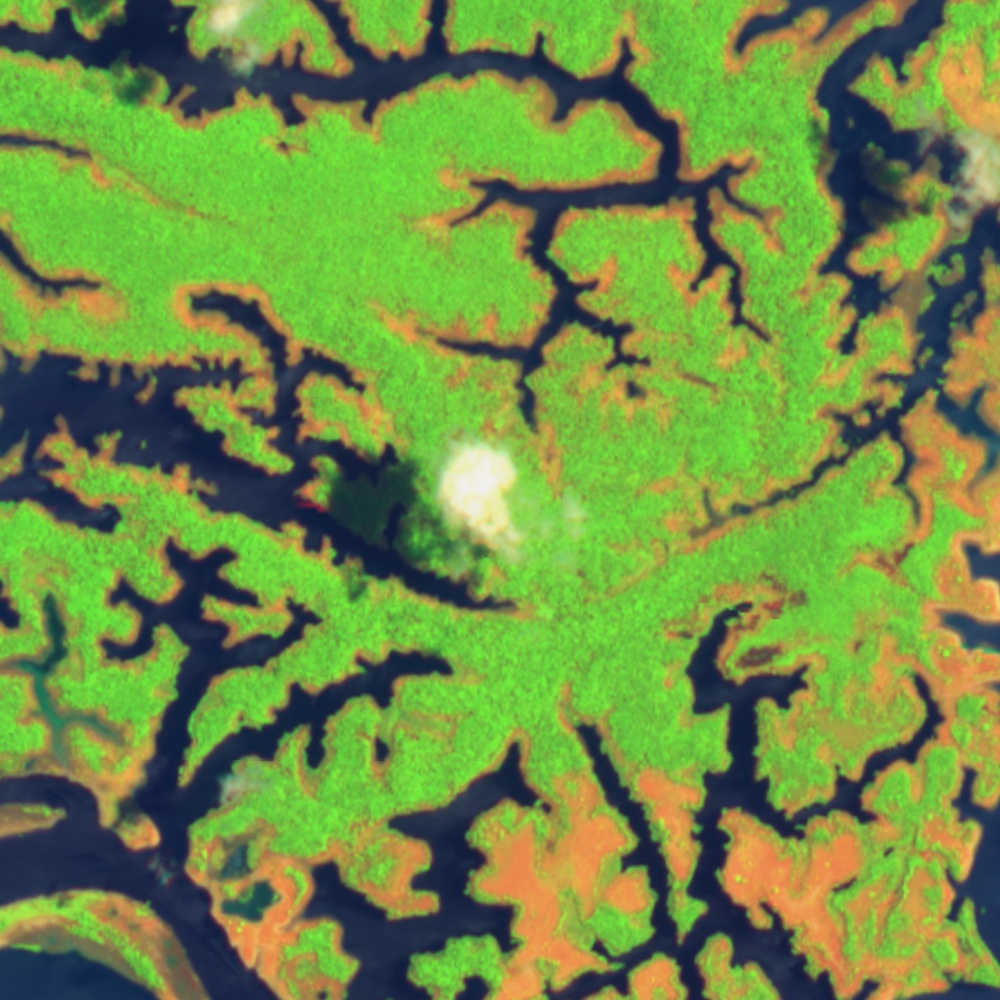legal: (1, 1, 792, 457), (3, 537, 551, 1000), (602, 1, 1000, 589), (1, 278, 538, 619), (553, 679, 1000, 1000), (685, 573, 1000, 703), (1, 126, 236, 220), (1, 215, 134, 329)
